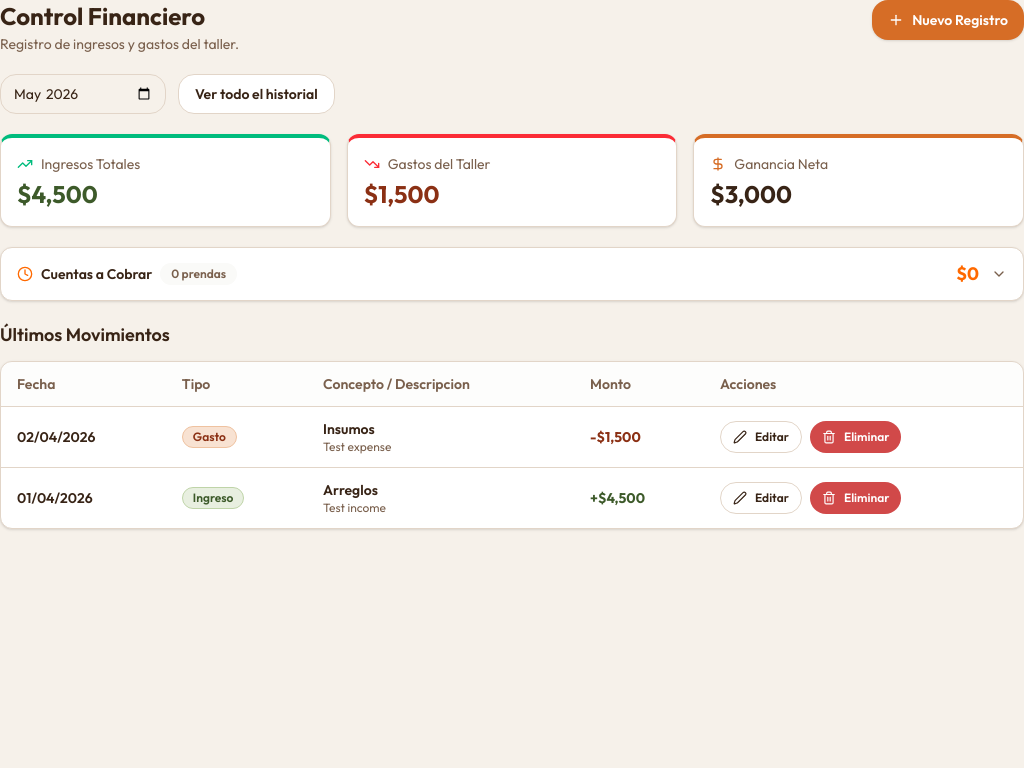
Finances page › opens create modal on button click
This screenshot has width=1024, height=768.
Expected: the text "Ingresos Totales" is shown, [17,155,140,173]
Click the button "Nuevo Registro" at (948, 20), box [872,0,1023,40]
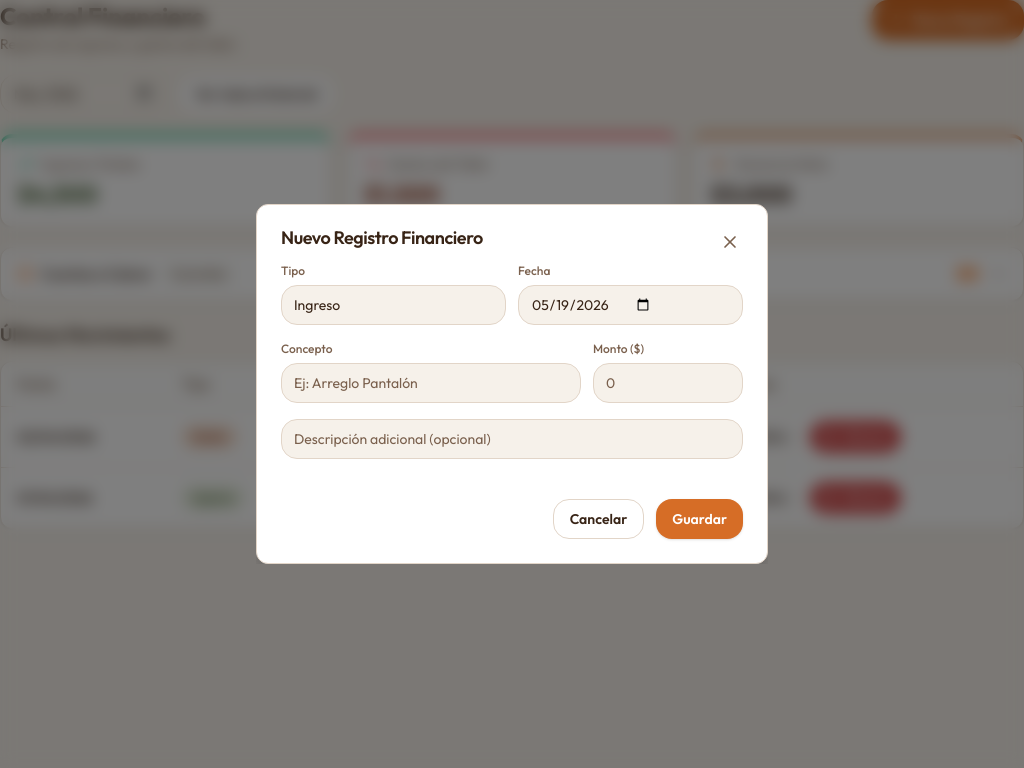
Expected: the heading "Nuevo Registro Financiero" is shown, [281,226,483,249]
